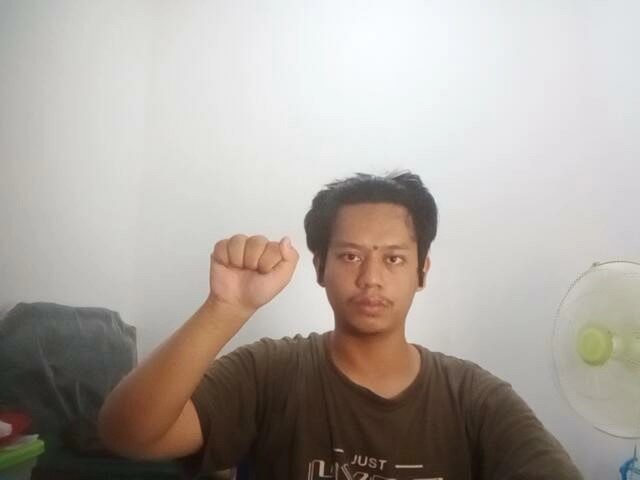A: (200, 226, 305, 309)
